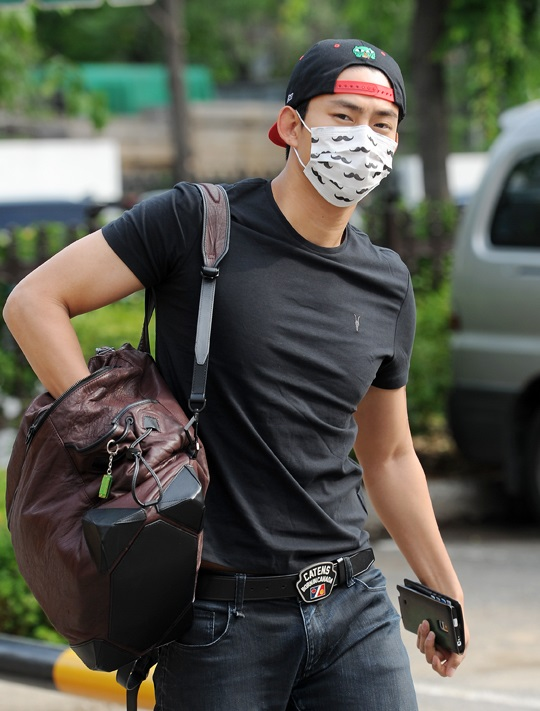face_mask: (302, 68, 397, 211)
